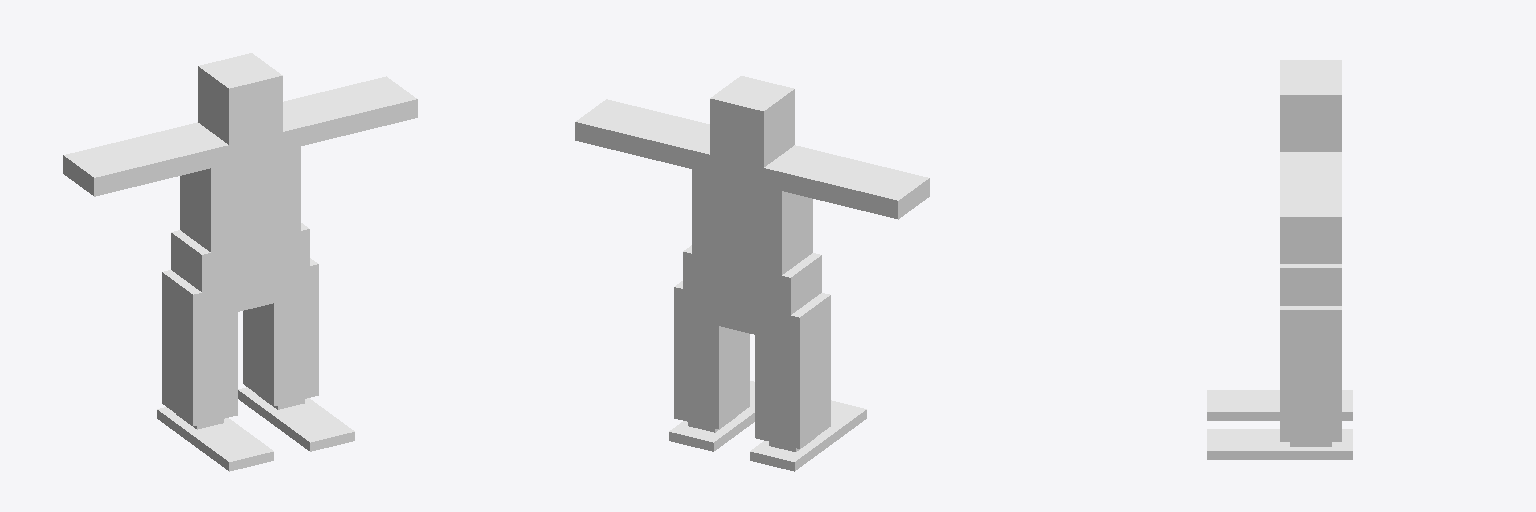
The model's file is char_01.obj.
The picture shows the model from 3 angles: view 1: azimuth 30°, elevation 25°; view 2: azimuth 150°, elevation 25°; view 3: azimuth 270°, elevation 25°; orthographic projection.
Parts seen in each view (by area): view 1: object 1; view 2: object 1; view 3: object 1.
Part boxes in pixels (x1,y1,x2,y2): object 1: (63,53,417,471); object 1: (575,76,929,471); object 1: (1207,60,1352,459).
Size of the model in its own units: 3.6 by 3.7 by 1.4.